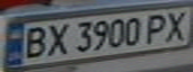0: (109, 16, 130, 48), (124, 15, 145, 47)
3: (72, 19, 93, 54)
9: (90, 17, 112, 52)
B: (18, 24, 51, 60)
P: (139, 11, 175, 45)
X: (160, 8, 193, 43), (42, 20, 72, 57)
